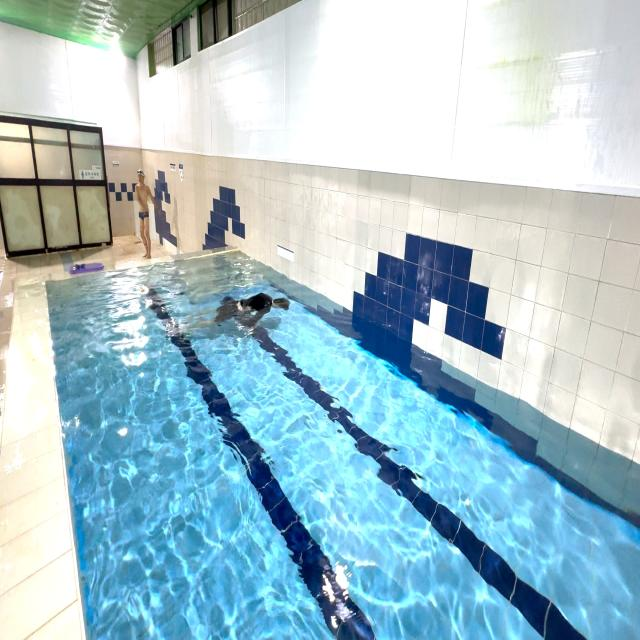Drowning: (185, 285, 294, 336)
